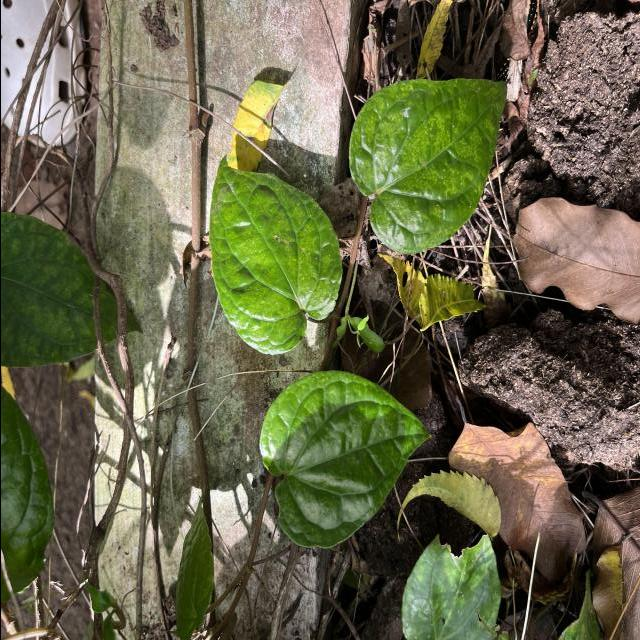Piper betle: (255, 368, 432, 552), (346, 77, 508, 257), (206, 152, 343, 357)
